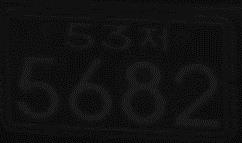2: (174, 61, 220, 128)
3: (100, 22, 132, 50)
5: (16, 55, 57, 118), (64, 21, 95, 49)
6: (68, 58, 111, 120)
8: (119, 60, 166, 123)
저: (138, 25, 169, 49)
